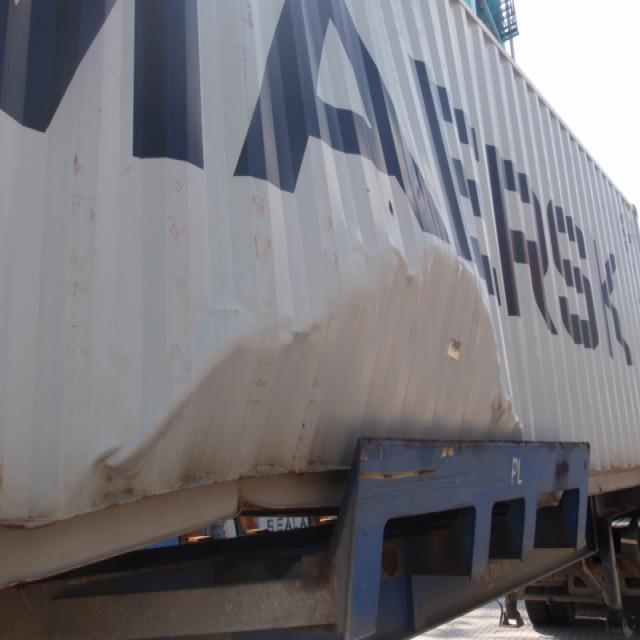dent: (74, 320, 270, 489), (381, 108, 464, 260), (505, 290, 534, 438), (444, 338, 471, 363)
